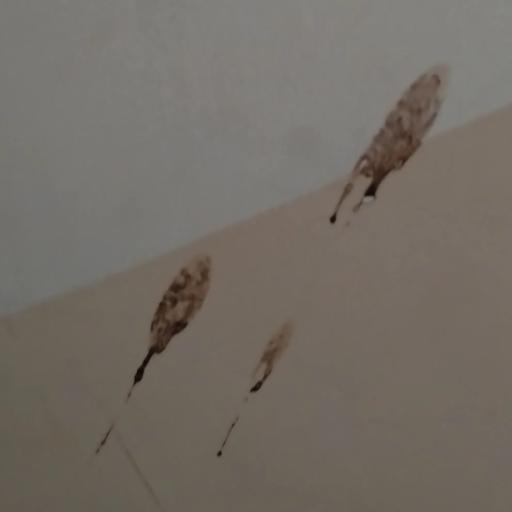stain: (60, 233, 314, 477), (318, 21, 473, 256)
